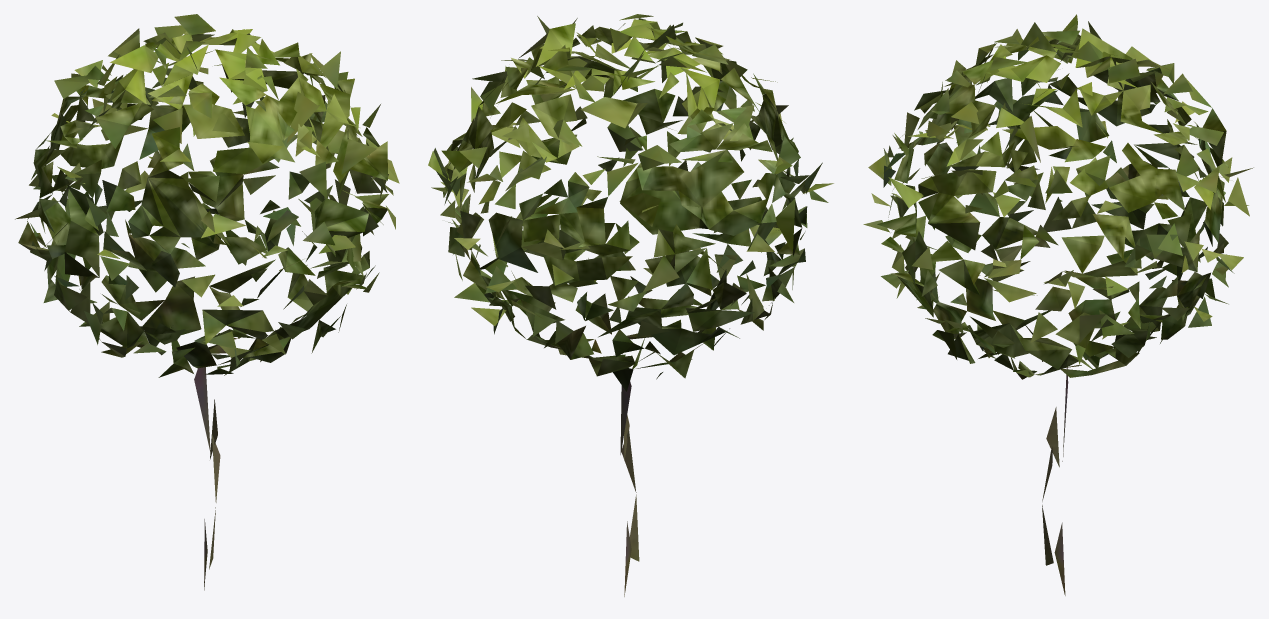
Rendered from bush.glb.
3 views of the same model, side by side, from view 1: azimuth 30°, elevation 25°; view 2: azimuth 150°, elevation 25°; view 3: azimuth 270°, elevation 25° (orthographic).
Visible parts, largest first — view 1: geometry_0; view 2: geometry_0; view 3: geometry_0.
Boxes of the visible parts, bbox=[...] form: geometry_0: bbox=[15, 14, 399, 590]; geometry_0: bbox=[428, 14, 833, 596]; geometry_0: bbox=[863, 14, 1253, 595].
Size of the model in its own units: 1.3 by 2.01 by 1.27.
Materials: 1 (1 with a texture image).
